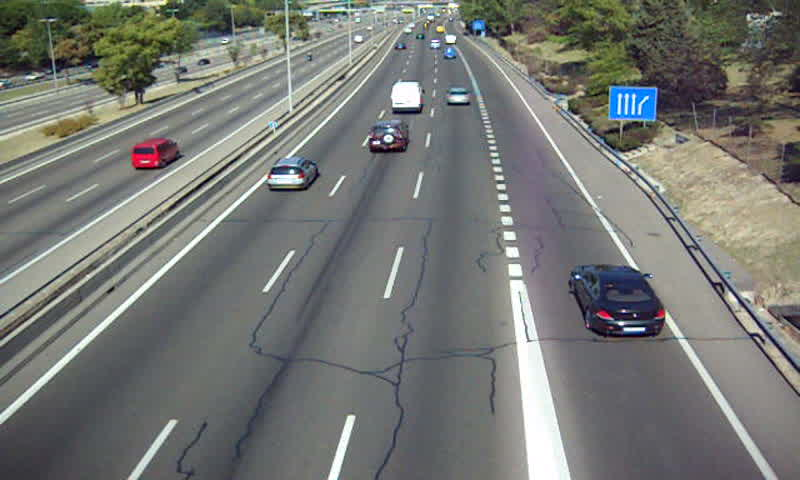car: (572, 265, 665, 334), (265, 157, 318, 191), (369, 120, 409, 152), (445, 87, 473, 107)
van: (390, 82, 425, 111)
